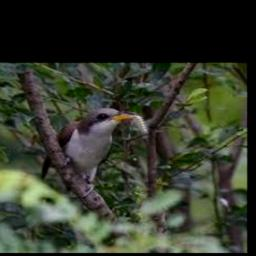Cuckoo: (42, 108, 134, 184)
